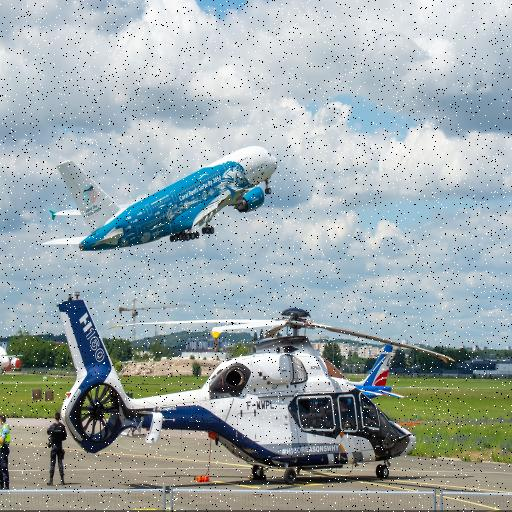helicopter: (46, 274, 464, 497)
